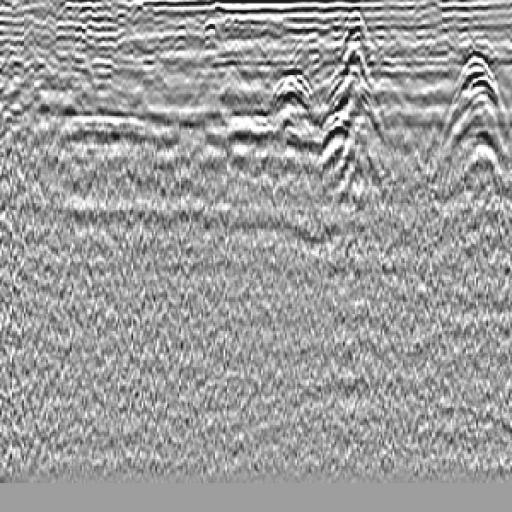metalic: (306, 36, 408, 229)
nonmetalic: (435, 29, 512, 199), (239, 47, 320, 141)
